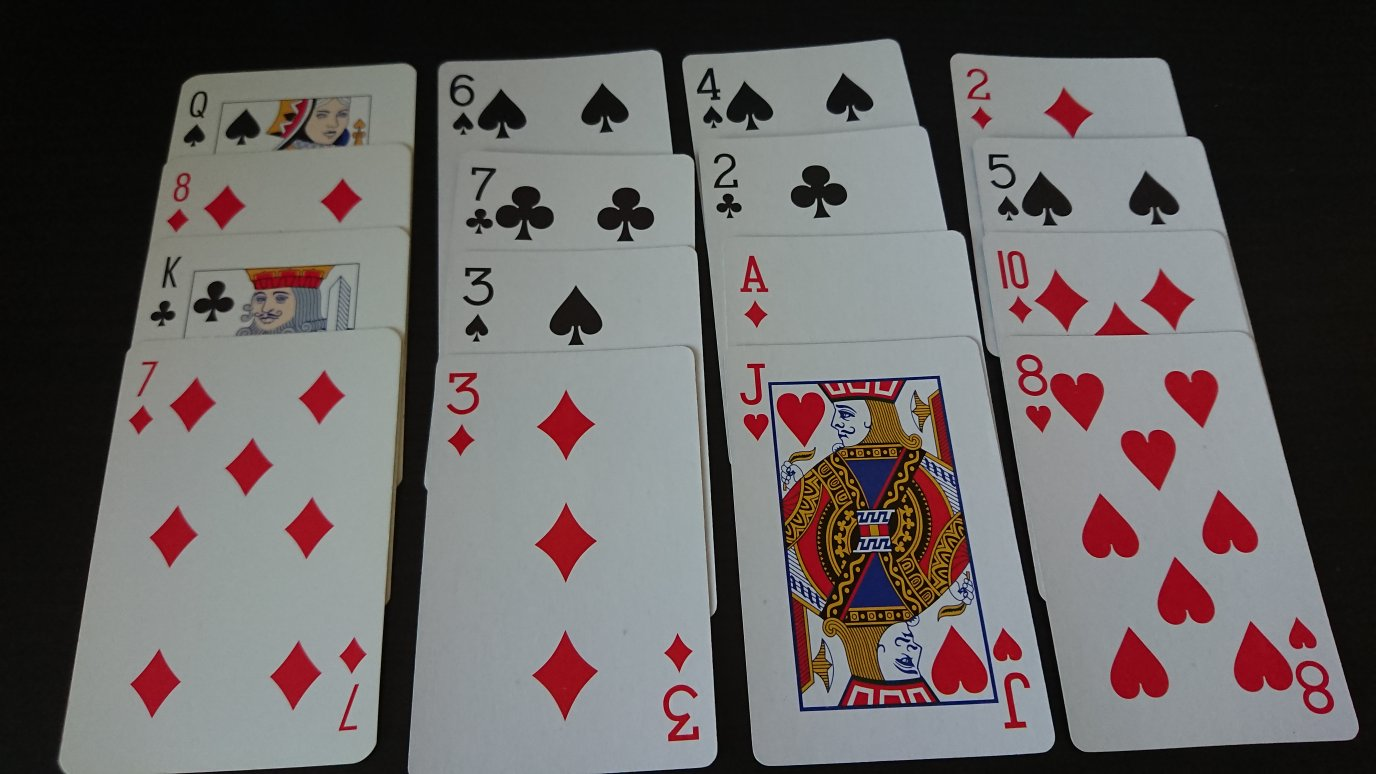10D: (987, 243, 1040, 329)
2C: (707, 147, 752, 224)
2D: (959, 61, 1000, 132)
3D: (442, 364, 482, 462)
3S: (454, 262, 500, 347)
4S: (693, 62, 728, 136)
5S: (981, 148, 1024, 226)
6S: (442, 67, 480, 142)
7C: (460, 160, 500, 243)
7D: (122, 353, 164, 442)
8D: (161, 166, 195, 237)
8H: (1008, 347, 1057, 435)
AD: (733, 248, 775, 331)
JH: (731, 356, 778, 444)
KC: (142, 250, 189, 336)
QS: (177, 85, 219, 153)
